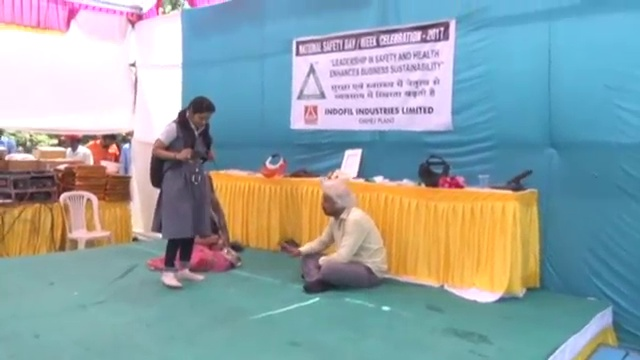helmet_off: (317, 178, 353, 217), (186, 95, 215, 130)
person: (146, 94, 215, 290), (276, 176, 389, 294), (186, 170, 241, 274), (85, 132, 119, 164), (63, 134, 94, 164), (118, 129, 137, 174)
